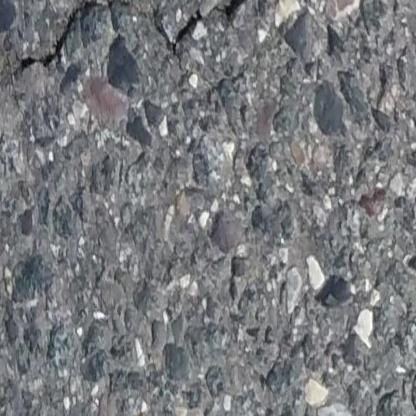Cracks: (0, 0, 210, 95), (221, 0, 266, 26)
